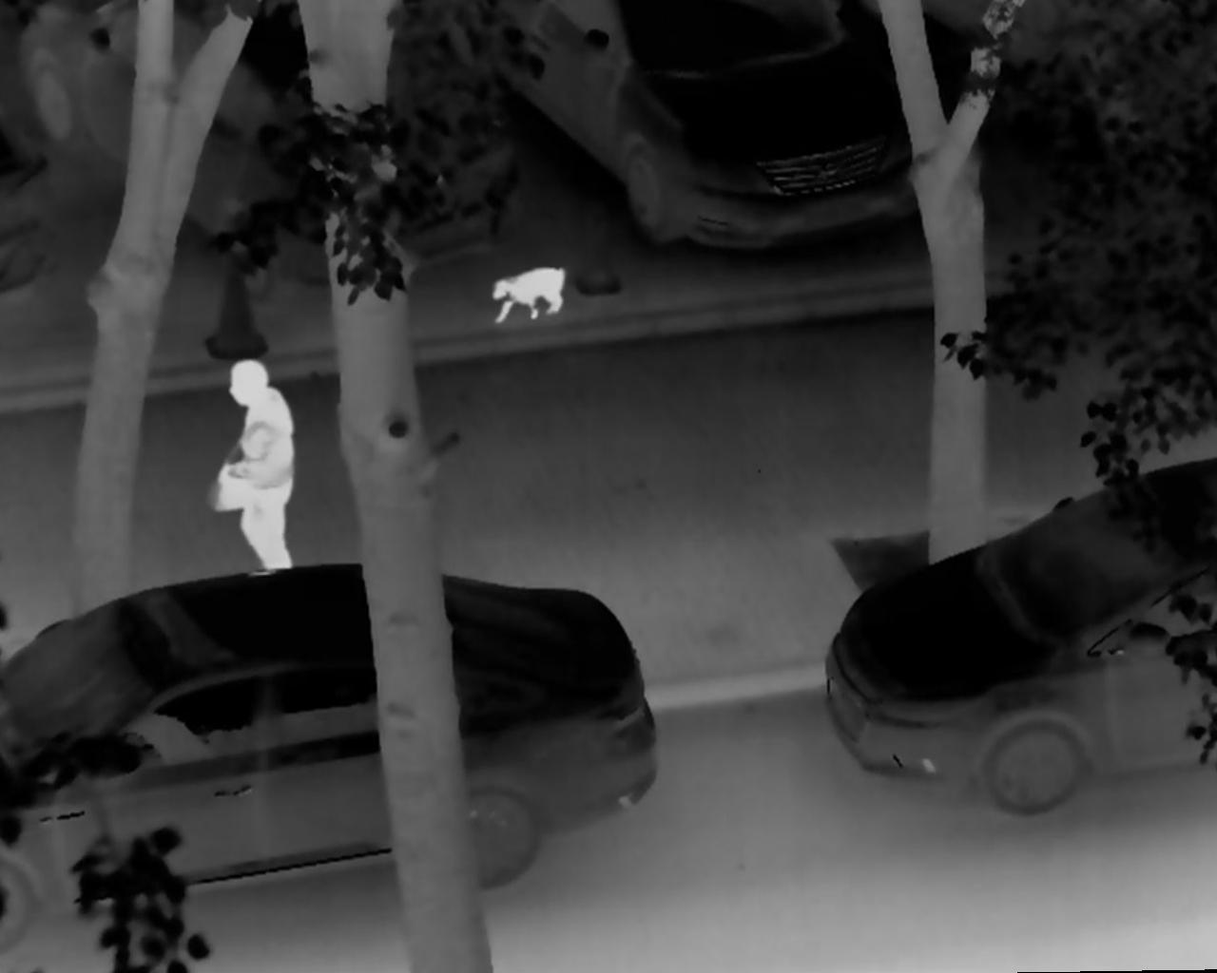person: (200, 357, 315, 580)
